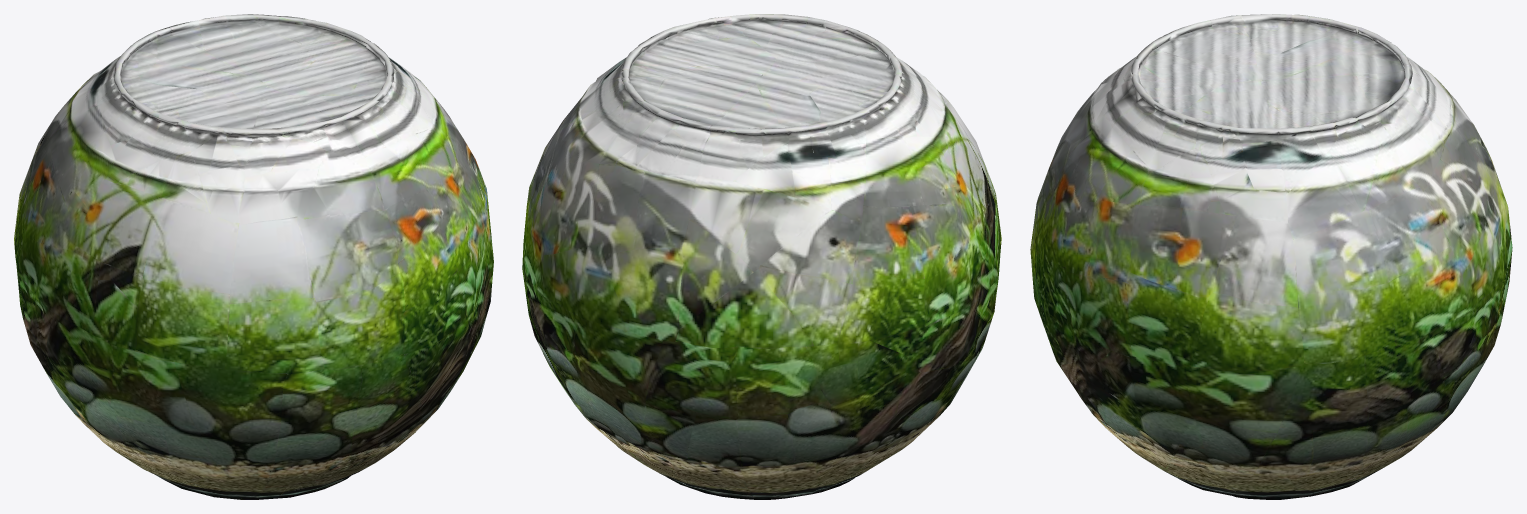
Rendered from pr_fishbowl.glb.
The picture shows the model from 3 angles, left to right: view 1: azimuth 30°, elevation 25°; view 2: azimuth 150°, elevation 25°; view 3: azimuth 270°, elevation 25°; orthographic projection.
Size of the model in its own units: 1.9 by 1.66 by 1.9.
Materials: 1 (1 with a texture image).
